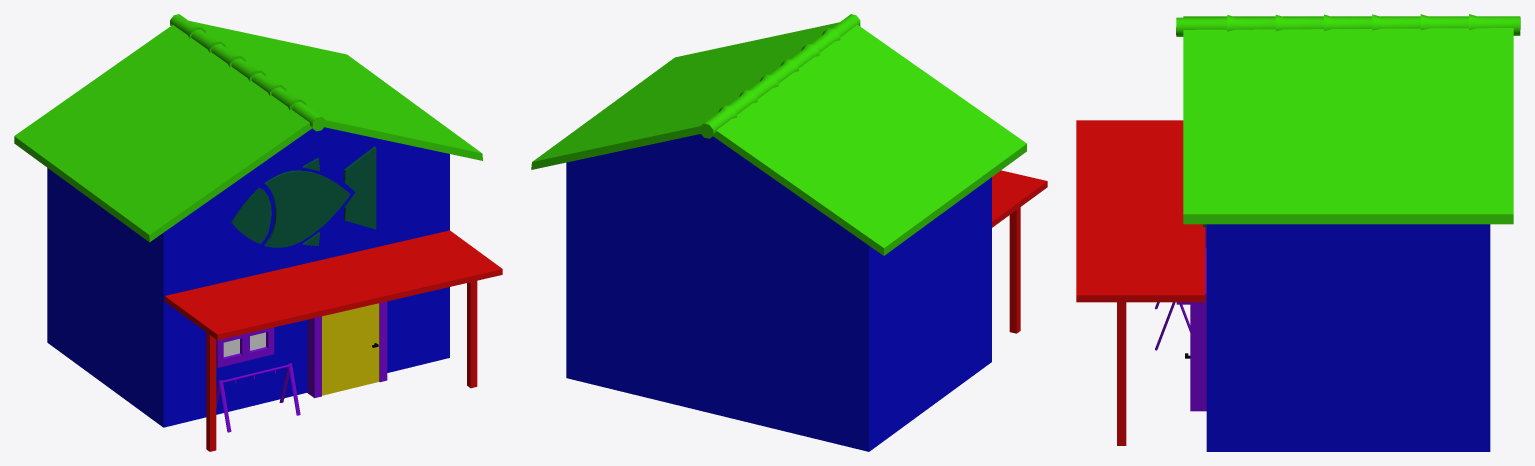
File: FishMarket.fbx
3 views of the same model, side by side, from view 1: azimuth 30°, elevation 25°; view 2: azimuth 150°, elevation 25°; view 3: azimuth 270°, elevation 25° (orthographic). The views are drawn at different scales.
Parts seen in each view (by area): view 1: Casa; view 2: Casa; view 3: Casa.
Part boxes in pixels (x1,y1,x2,y2): Casa: [14, 14, 502, 451]; Casa: [531, 14, 1047, 451]; Casa: [1076, 14, 1520, 451].
Size of the model in its own units: 10.31 by 8.48 by 9.73.
